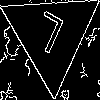L: (26, 10, 66, 63)
